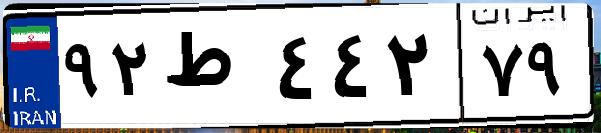2: (385, 28, 445, 110), (110, 28, 158, 98)
4: (270, 28, 330, 110), (330, 28, 385, 110)
7: (475, 38, 525, 113)
9: (57, 26, 110, 100), (525, 38, 570, 115)
ط: (158, 20, 270, 120)
